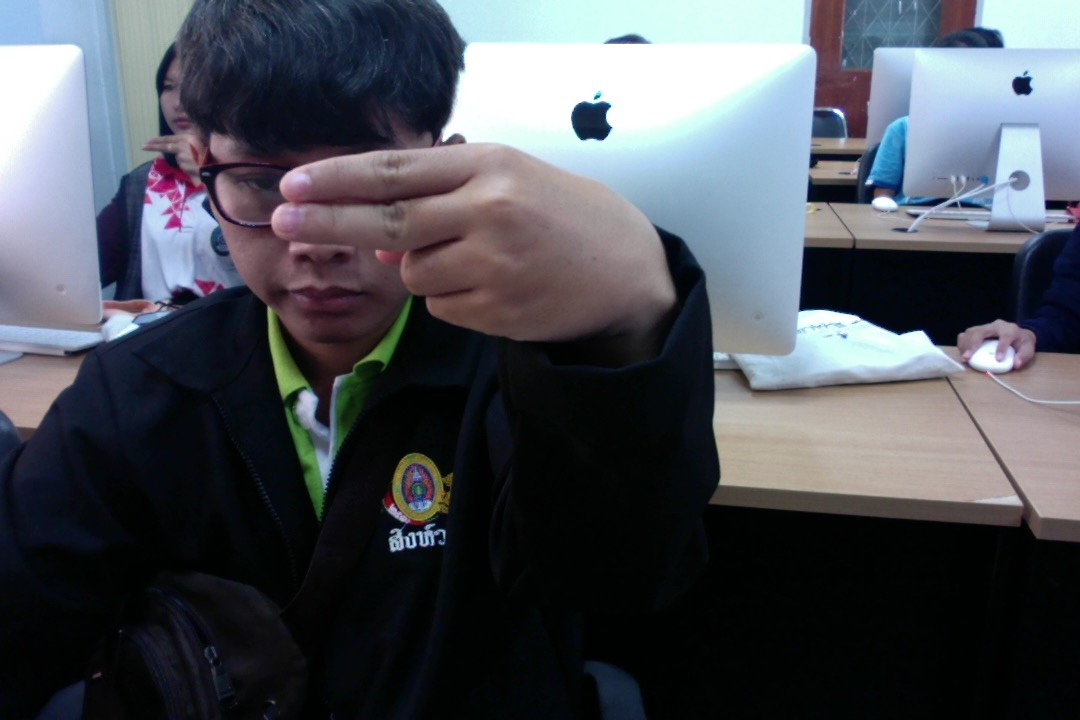hor: (260, 133, 695, 348)
